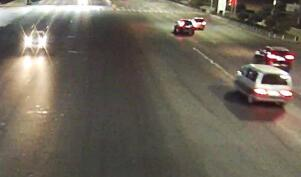car: (232, 61, 293, 108), (255, 42, 294, 69), (20, 28, 50, 55), (171, 16, 195, 36), (189, 13, 206, 29)
